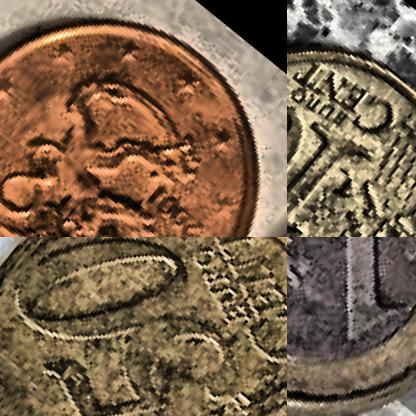coin: (0, 0, 286, 236), (0, 237, 286, 415), (287, 0, 415, 236), (287, 237, 415, 415)
